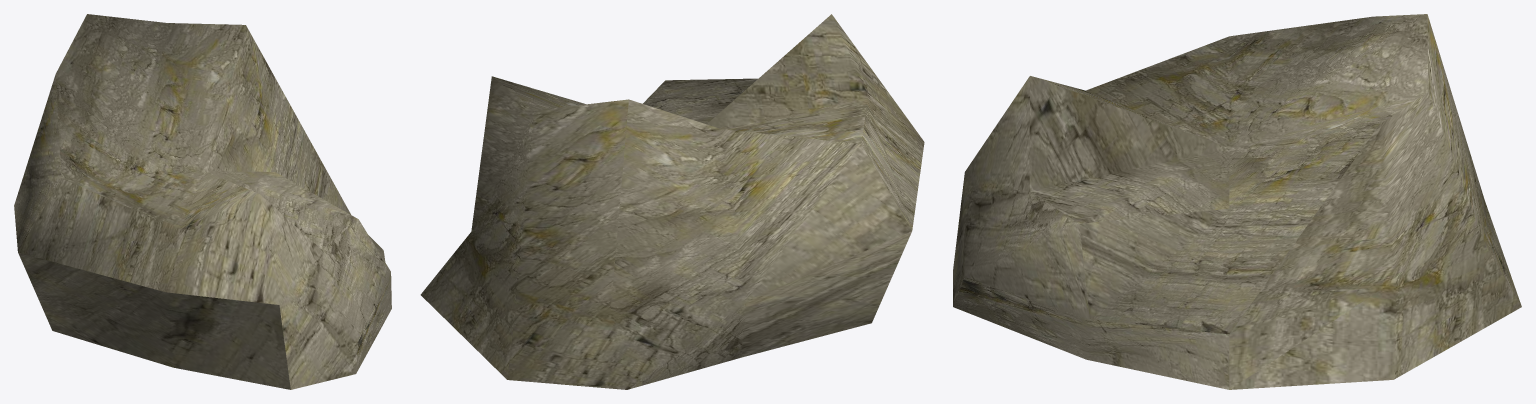
File: rock-boulder.glb
3 renders of one model, left to right at view 1: azimuth 30°, elevation 25°; view 2: azimuth 150°, elevation 25°; view 3: azimuth 270°, elevation 25°, orthographic. The views are drawn at different scales.
Visible parts, largest first — view 1: rock-boulder; view 2: rock-boulder; view 3: rock-boulder.
Part boxes in pixels (x1,y1,x2,y2): rock-boulder: [14, 14, 391, 389]; rock-boulder: [420, 14, 924, 389]; rock-boulder: [953, 14, 1521, 389].
Bounding box in the file's own units: 5.76 × 3.38 × 6.75.
Materials: 1 (1 with a texture image).
